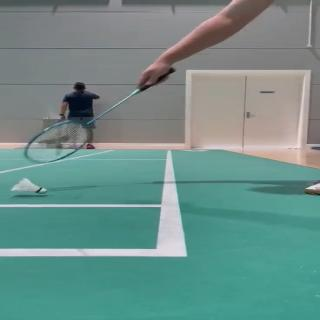Shuttle: (11, 178, 47, 194)
